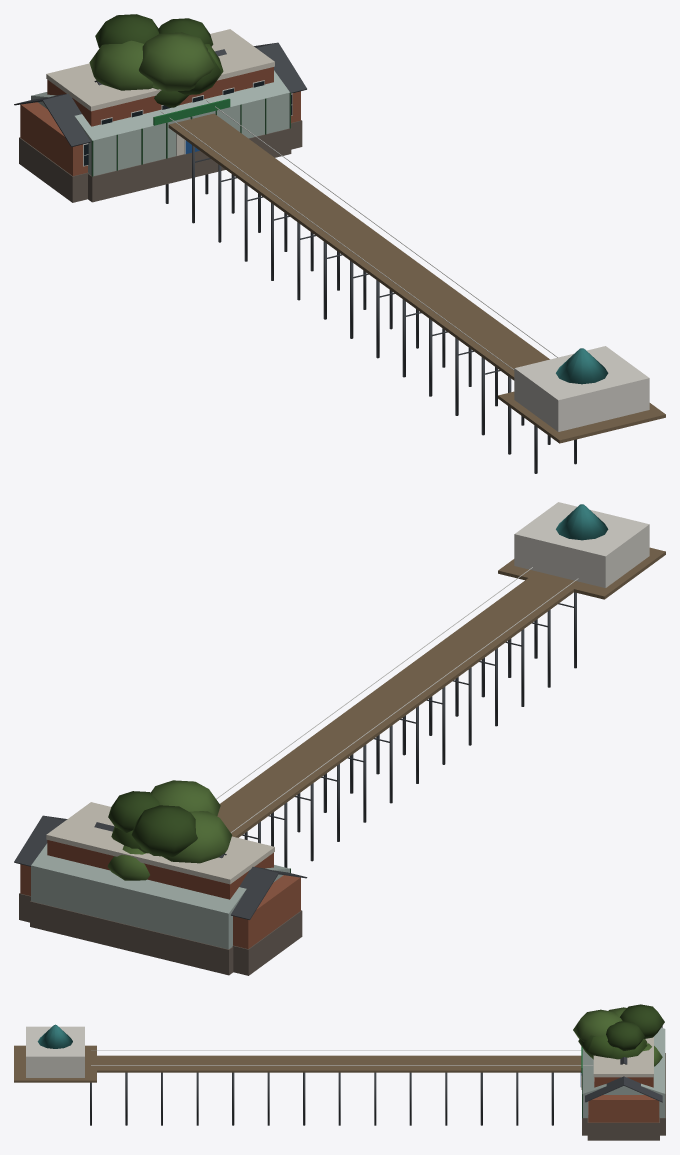
Rendered from props_suburbs.glb.
3 views of the same model, one above another, from view 1: azimuth 30°, elevation 25°; view 2: azimuth 150°, elevation 25°; view 3: azimuth 270°, elevation 25° (orthographic). The views are drawn at different scales.
Visible parts, largest first — view 1: pier, garden_centre, oak_big, school, shops; view 2: pier, garden_centre, oak_big, shops, school, oak; view 3: pier, school, oak_big, garden_centre, shops.
Part boxes in pixels (box(x1,y1,x2,y2)): pier: box(160, 100, 665, 473); garden_centre: box(31, 70, 291, 202); oak_big: box(89, 14, 223, 94); school: box(14, 42, 306, 202); shops: box(46, 29, 274, 126); pier: box(216, 502, 665, 867); garden_centre: box(30, 843, 290, 975); oak_big: box(108, 780, 232, 863); shops: box(46, 802, 274, 899); school: box(14, 815, 307, 975); oak: box(107, 845, 149, 880); pier: box(14, 1024, 592, 1125); school: box(580, 1026, 662, 1140); oak_big: box(573, 1004, 664, 1059); garden_centre: box(581, 1027, 665, 1135); shops: box(593, 1037, 653, 1087).
Bounding box in the file's own units: 31 × 19.66 × 110.
